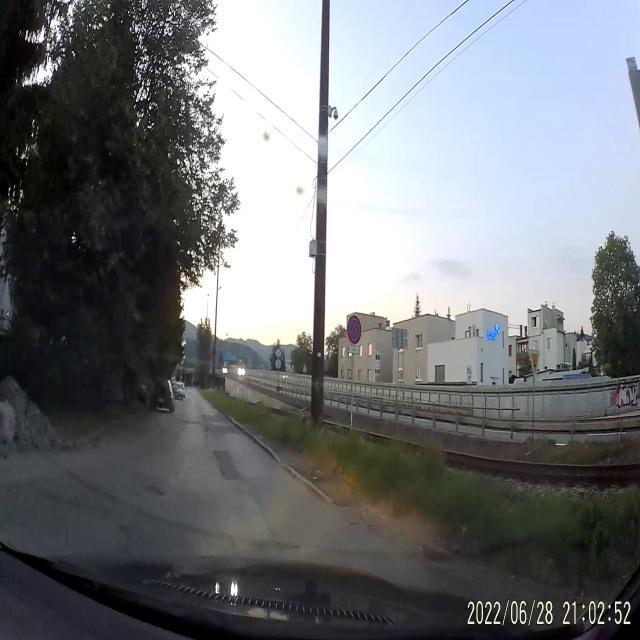Pothole: (142, 478, 166, 506)
